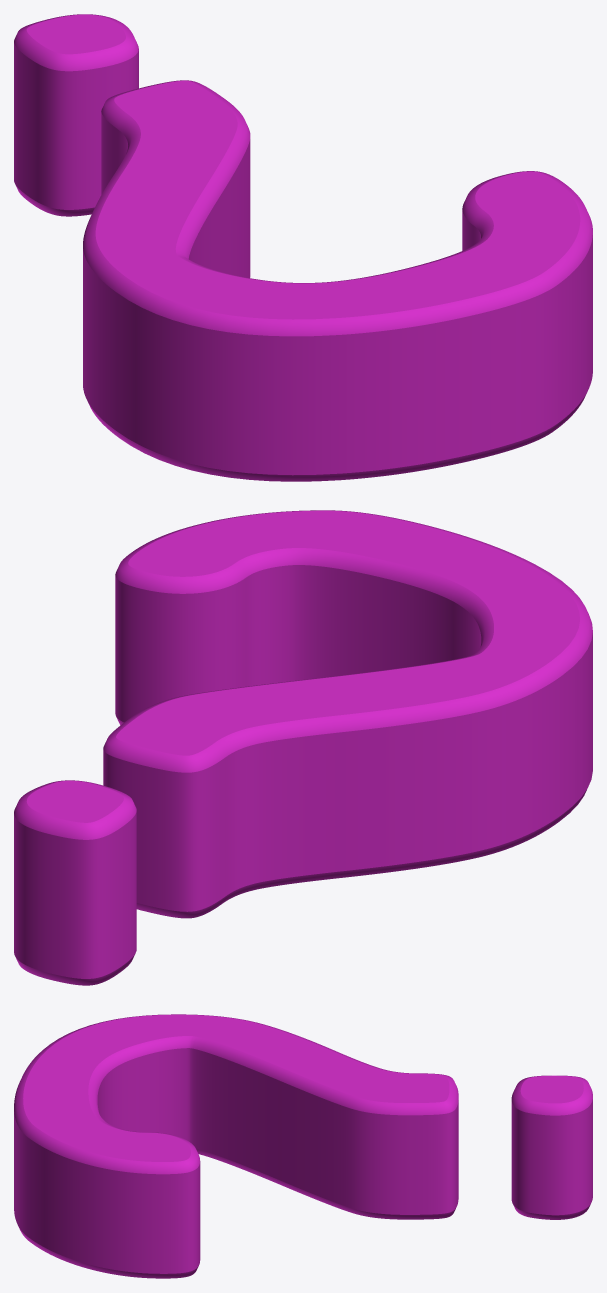
File: Blocky_QuestionMark.fbx
3 views of the same model, one above another, from view 1: azimuth 30°, elevation 25°; view 2: azimuth 150°, elevation 25°; view 3: azimuth 270°, elevation 25° (orthographic). The views are drawn at different scales.
Parts seen in each view (by area): view 1: BlockyQuestionMark; view 2: BlockyQuestionMark; view 3: BlockyQuestionMark.
Part boxes in pixels (box(x1,y1,x2,y2)): BlockyQuestionMark: box(14, 14, 592, 481); BlockyQuestionMark: box(14, 510, 592, 985); BlockyQuestionMark: box(14, 1014, 592, 1278).
Bounding box in the file's own units: 0.4007 × 0.14 × 0.6322.
